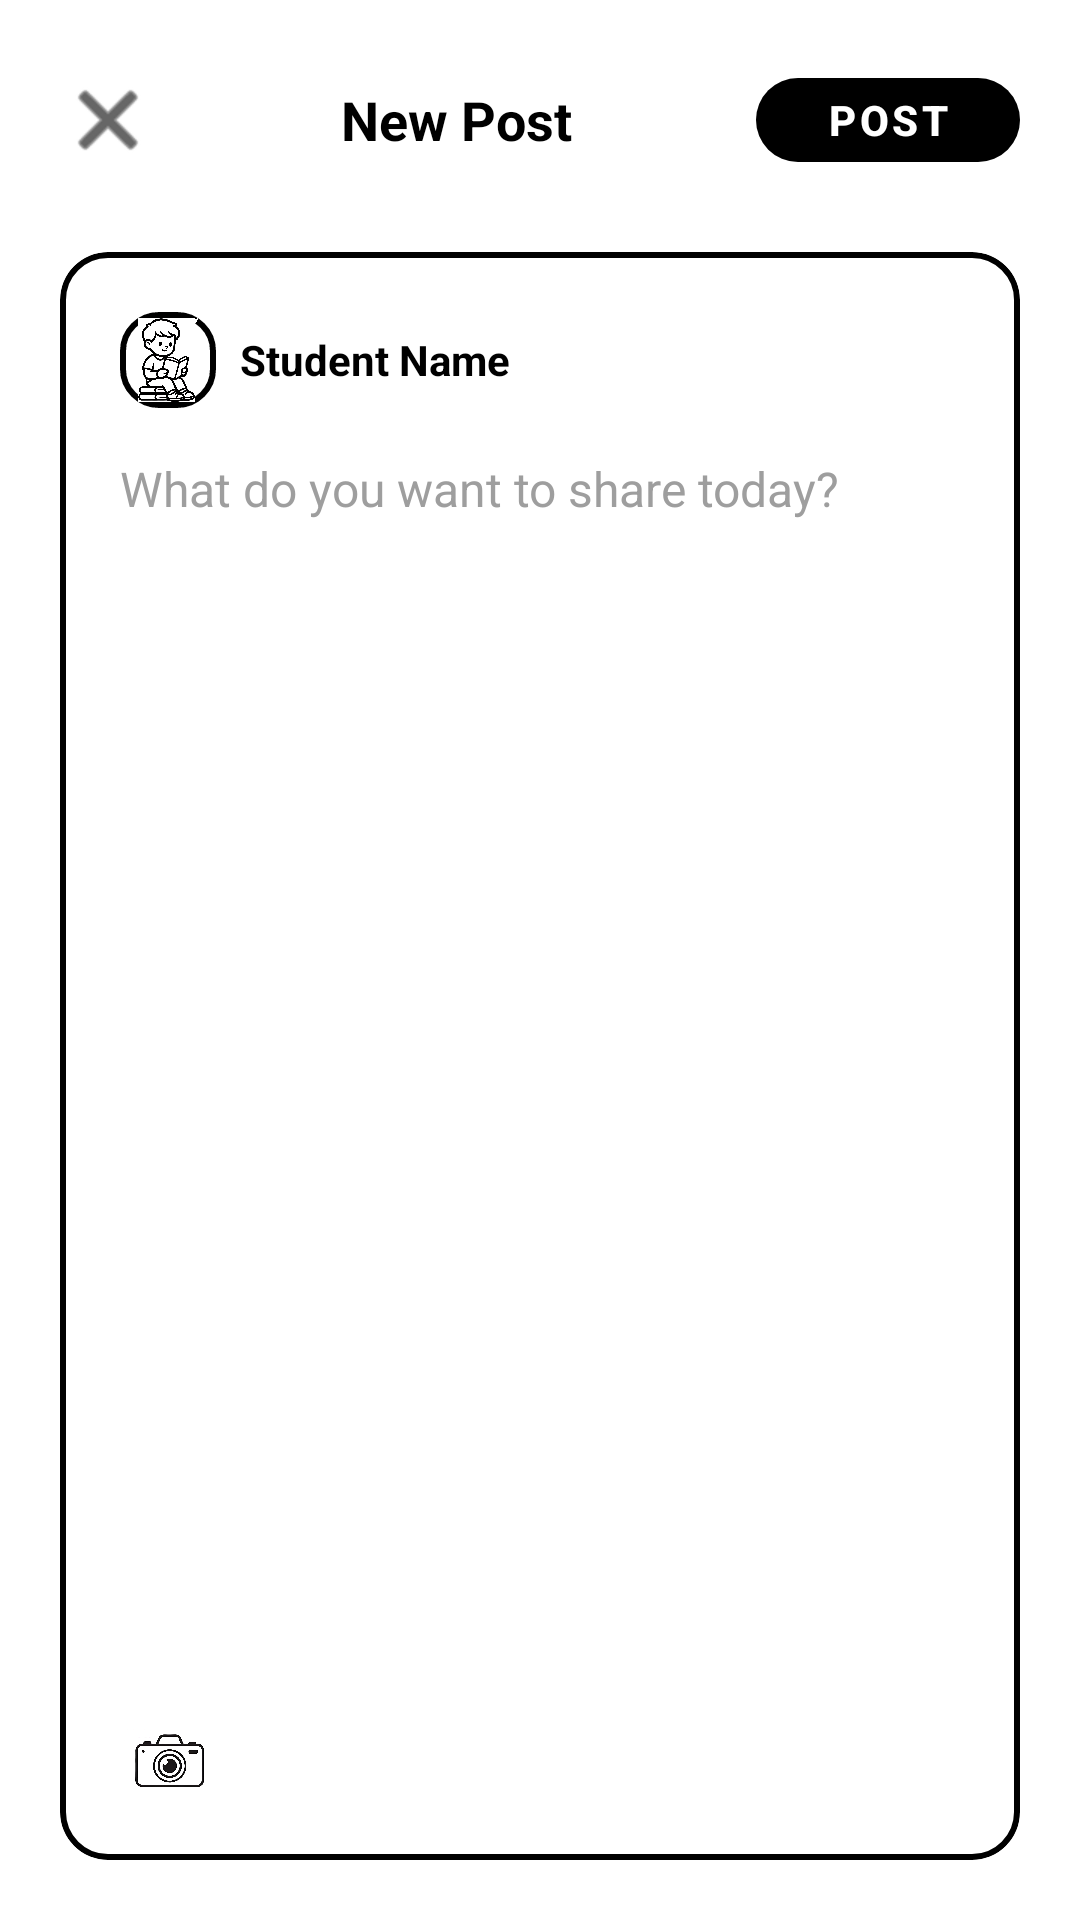

Point at icon controls on the screen. Image size 1080px x 1920px, points as point (x, y).
camera: point (169, 1760)
close clear cancel: point (108, 120)
hero student: point (168, 360)
